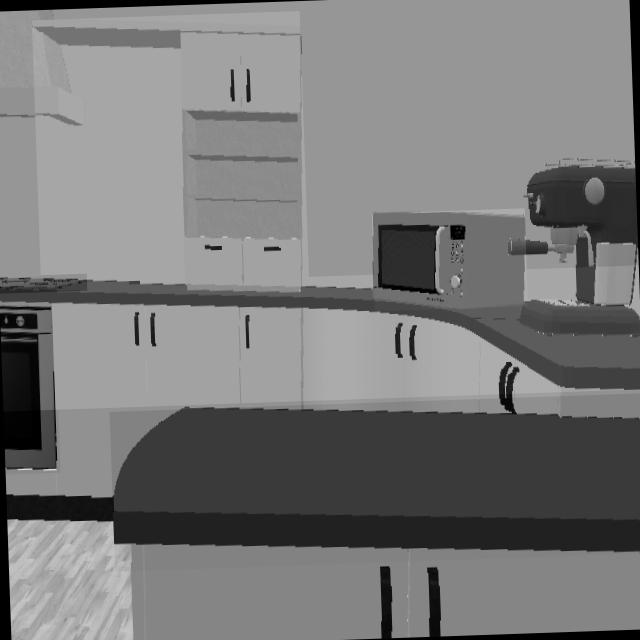cabinet: (5, 303, 640, 497), (32, 20, 302, 292), (130, 547, 640, 640)
countertop: (112, 410, 640, 552), (0, 283, 640, 389)
microwave: (372, 213, 525, 309)
oven: (0, 302, 59, 474)
stove: (0, 278, 87, 291)
